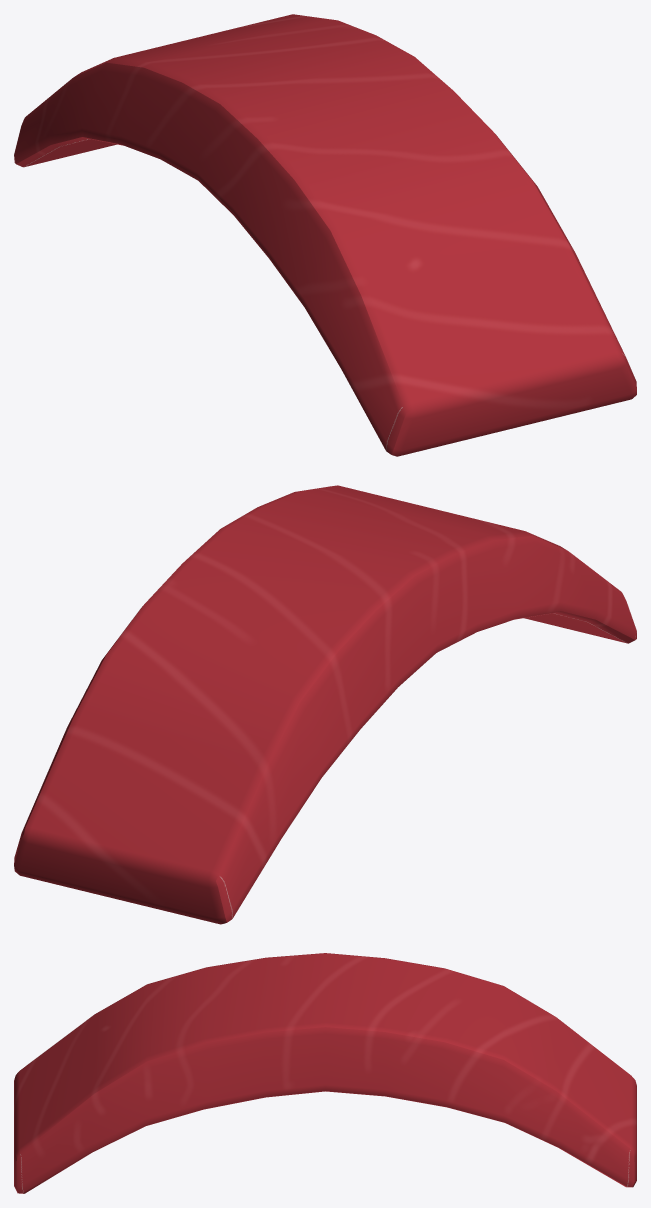
The model's file is neta_maguro 1.fbx.
3 renders of one model, top to bottom at view 1: azimuth 30°, elevation 25°; view 2: azimuth 150°, elevation 25°; view 3: azimuth 270°, elevation 25°, orthographic. The views are drawn at different scales.
Parts seen in each view (by area): view 1: polySurface3; view 2: polySurface3; view 3: polySurface3.
Boxes of the visible parts, x1,y1,x2,y2 form: polySurface3: (14, 14, 636, 456); polySurface3: (14, 485, 636, 924); polySurface3: (14, 953, 636, 1193).
Size of the model in its own units: 0.8996 by 0.688 by 2.42.
